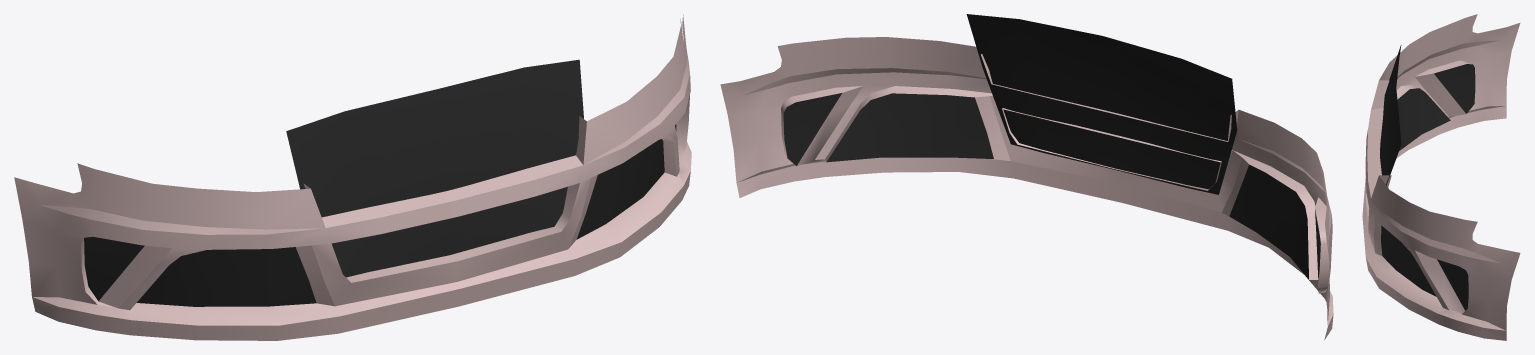
File: Classic_14_Bumper_F_1.fbx
3 renders of one model, left to right at view 1: azimuth 30°, elevation 25°; view 2: azimuth 150°, elevation 25°; view 3: azimuth 270°, elevation 25°, orthographic. The views are drawn at different scales.
Parts seen in each view (by area): view 1: Classic_14_Bumper_F_1; view 2: Classic_14_Bumper_F_1; view 3: Classic_14_Bumper_F_1.
Boxes of the visible parts, x1,y1,x2,y2 form: Classic_14_Bumper_F_1: [14, 14, 691, 340]; Classic_14_Bumper_F_1: [720, 14, 1333, 340]; Classic_14_Bumper_F_1: [1362, 14, 1520, 340].
Size of the model in its own units: 204 by 58.6 by 59.17.
